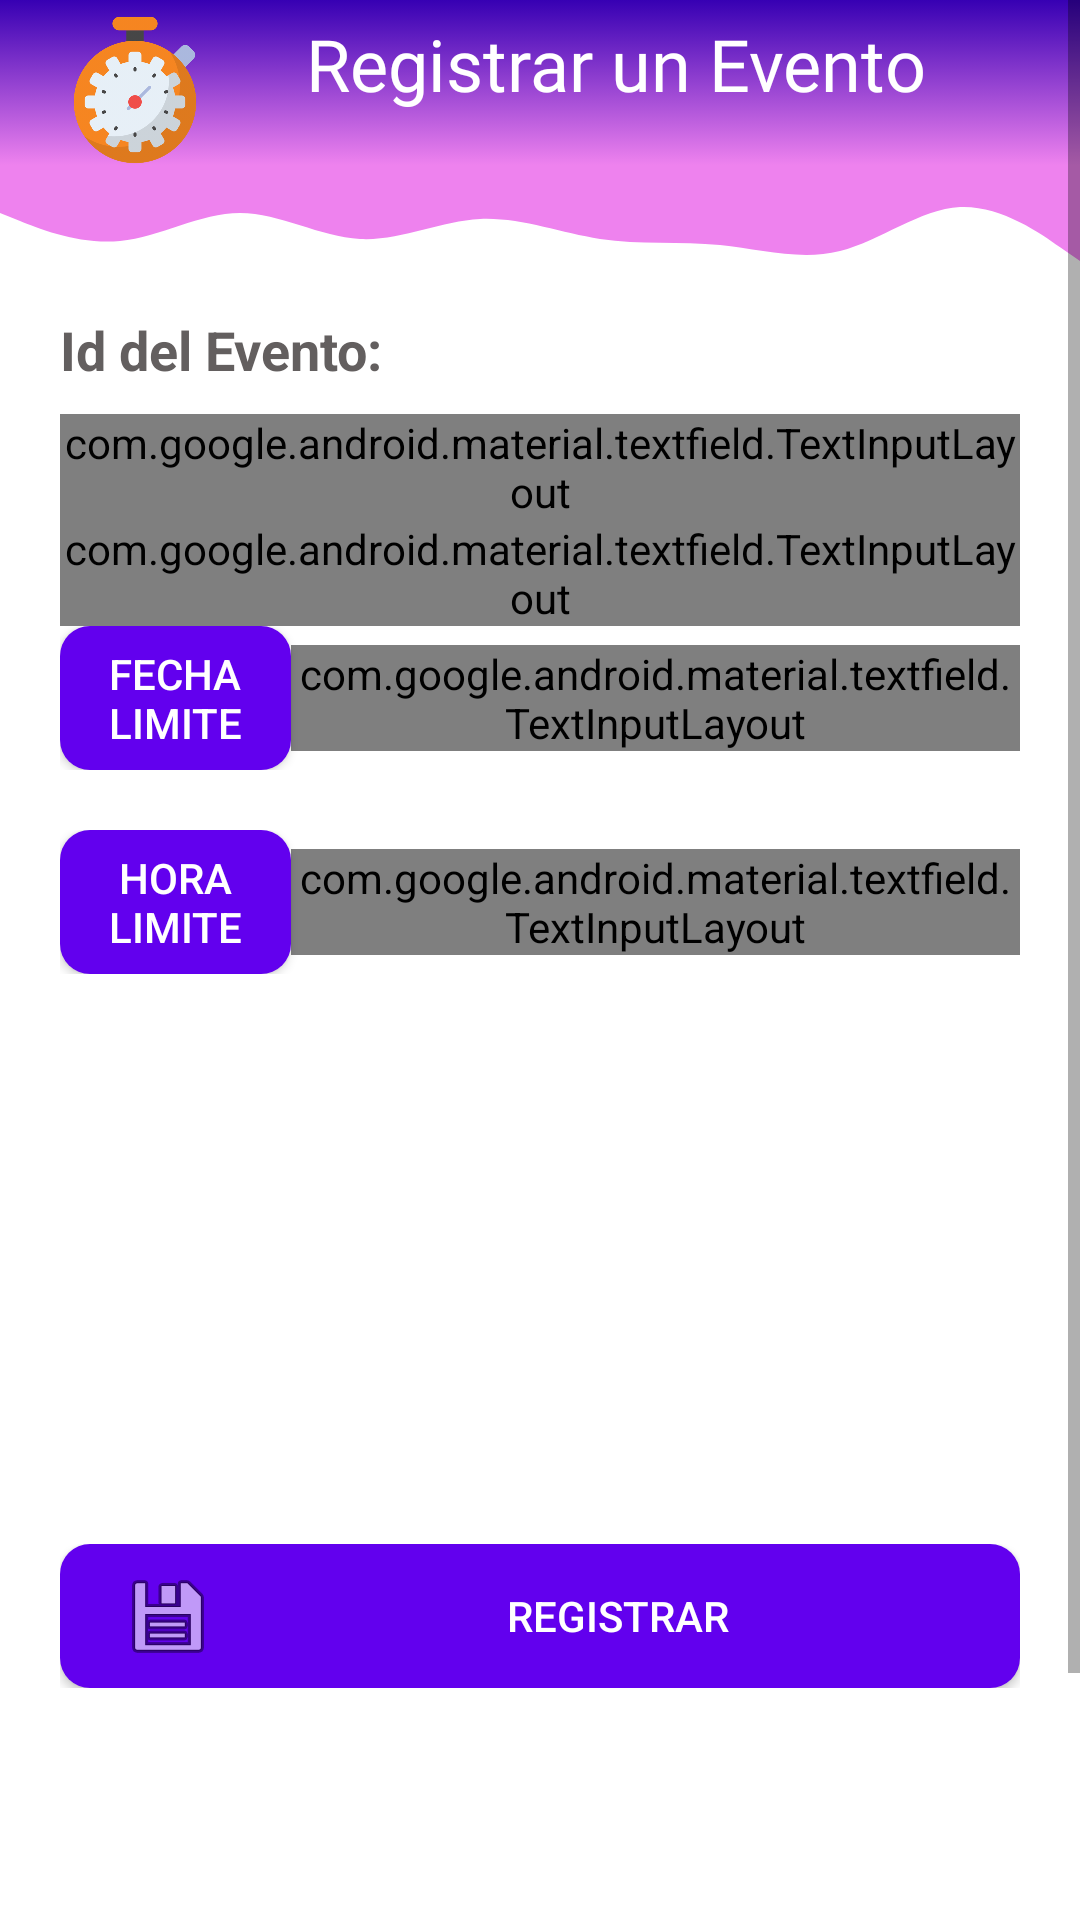

Point at icon controls on the screen. Image size 1080px×1920px, points as [x,y].
cronometro: [135,90]
